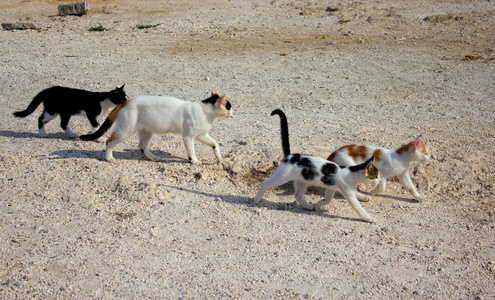cat: (252, 108, 381, 224), (80, 89, 234, 166), (325, 134, 431, 202), (13, 85, 129, 140)
